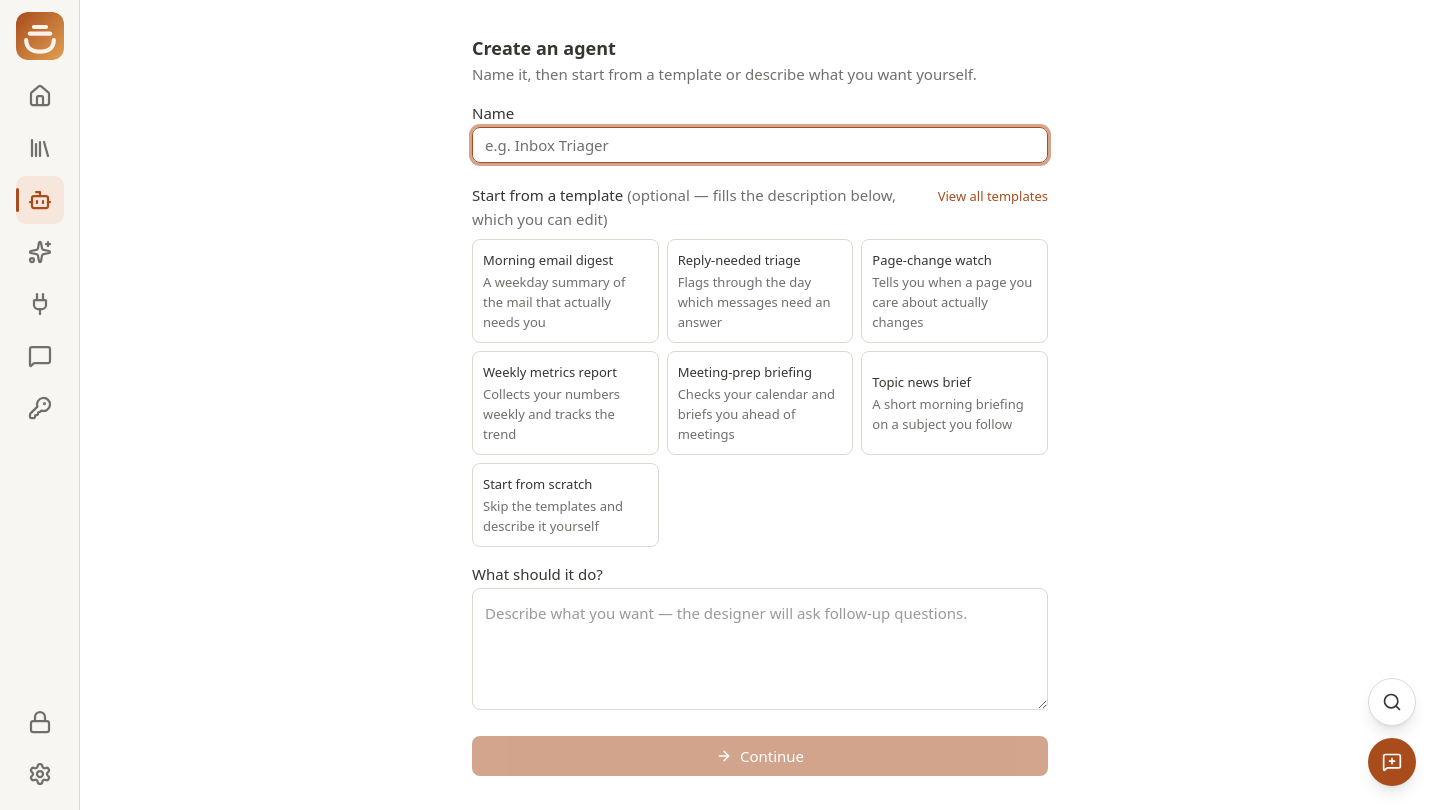
Test: a query matching nothing shows the empty state
Expected: the text box labelled "What should it do?" is shown, [472,588,1048,710]
Click the button "View all templates": (993, 196) [938,186,1048,206]
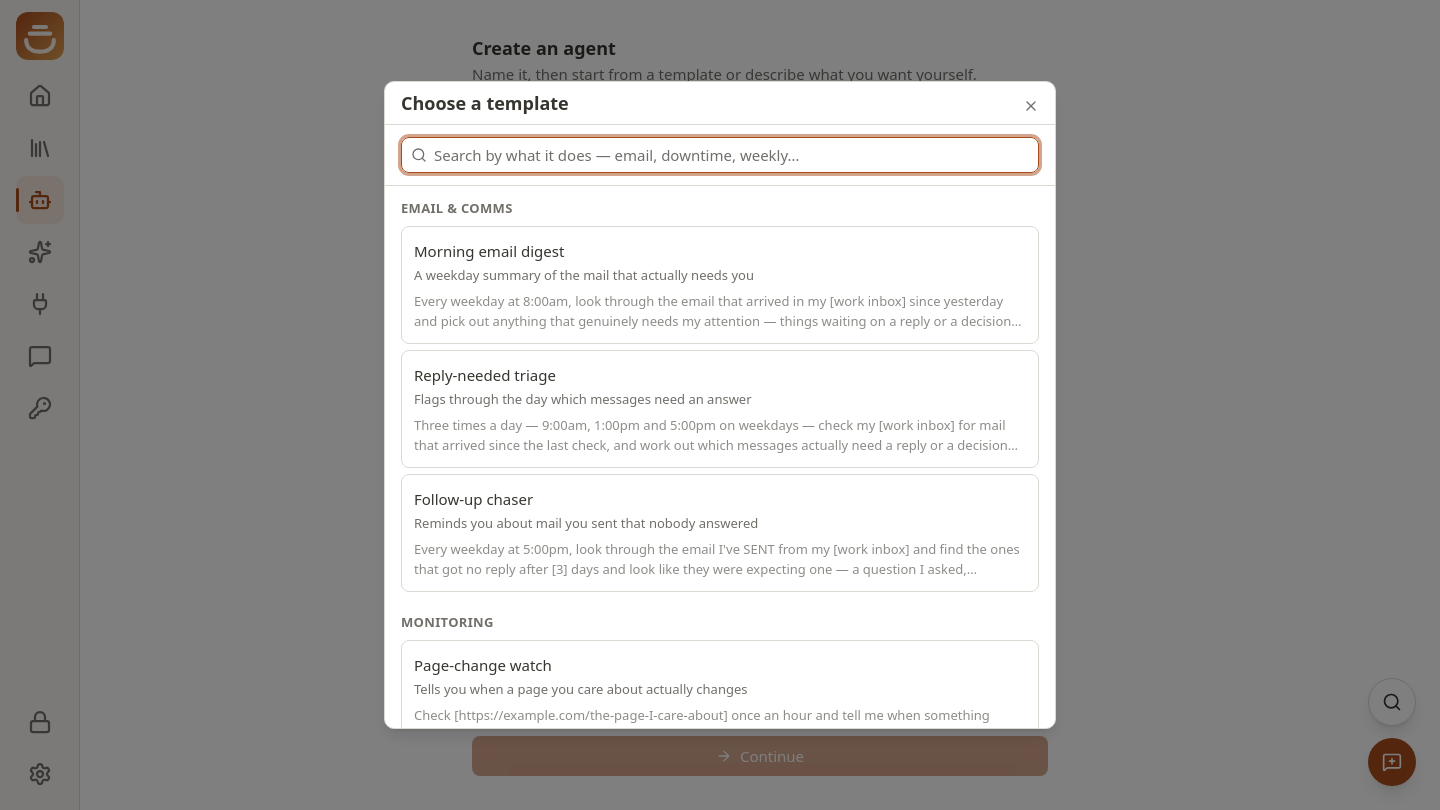
In the search field named "search templates": (720, 155) [401,137,1039,173], type "zzzznotathing"
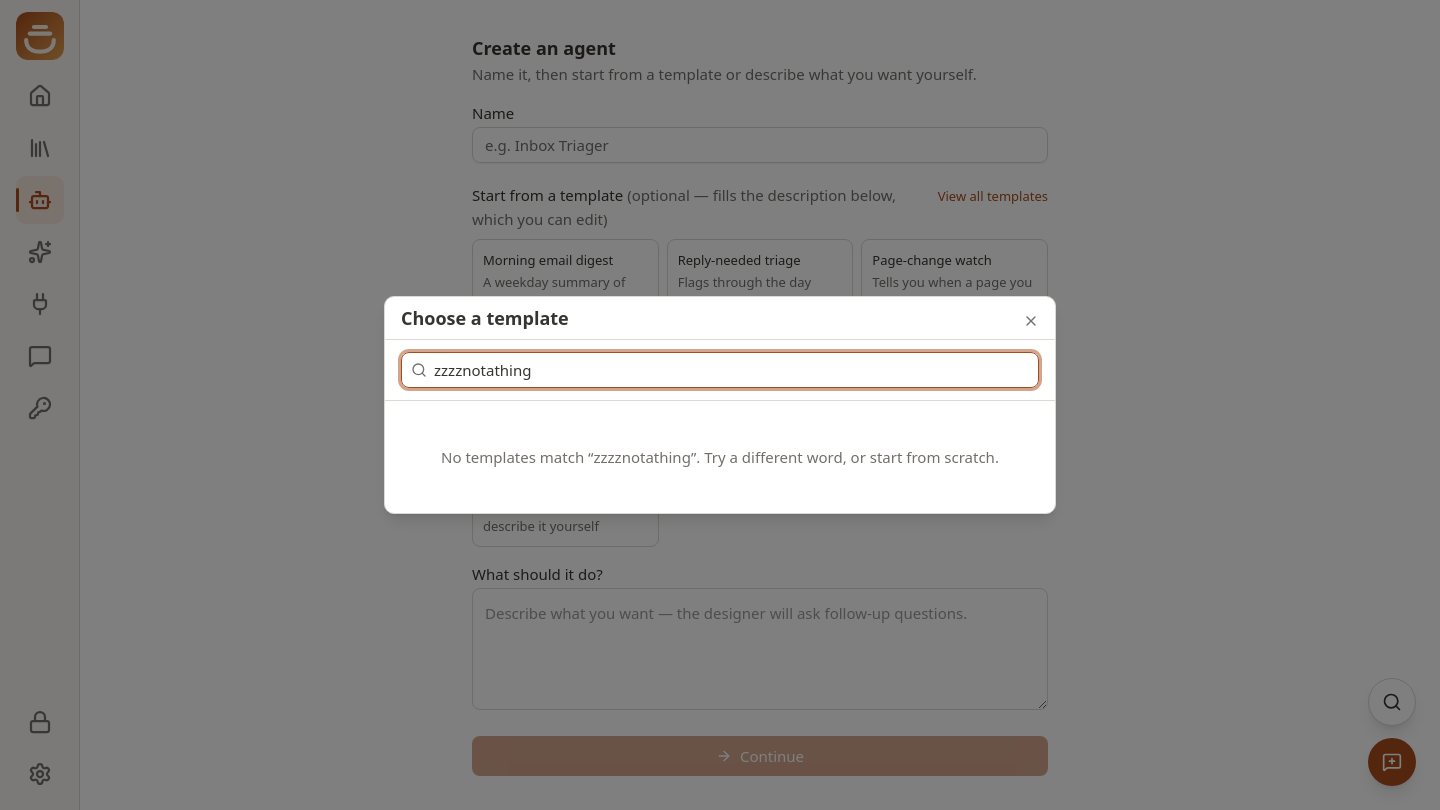
Expected: the text "No templates match" is shown, [441,447,594,467]
